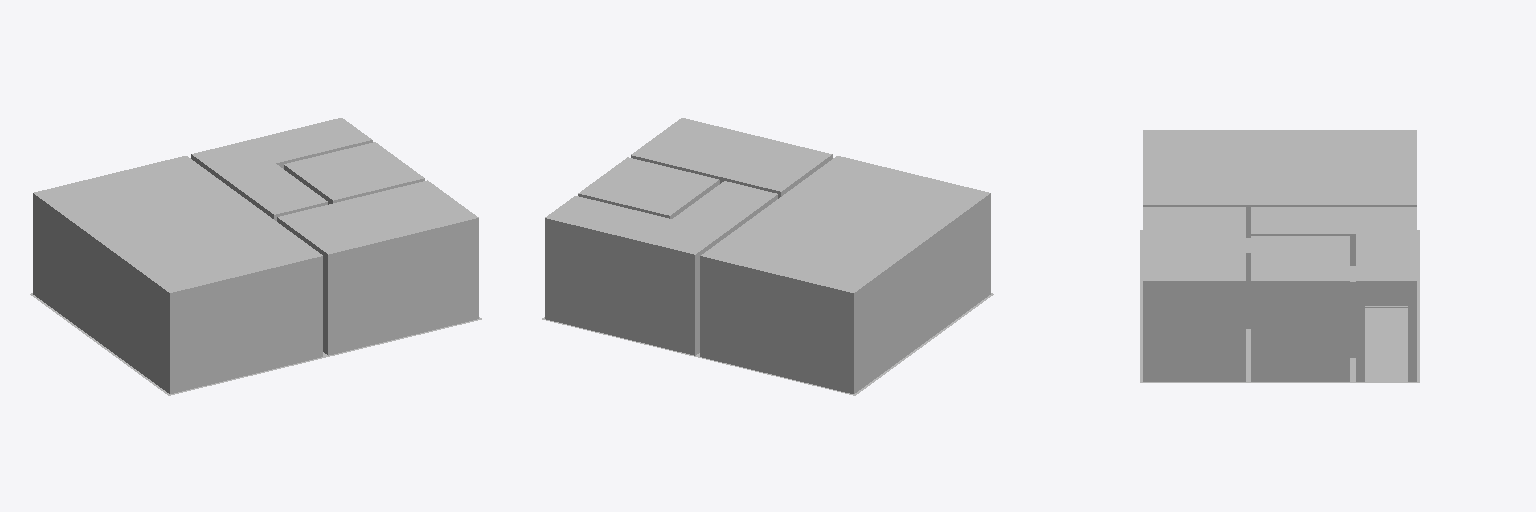
3 views of the same model, side by side, from view 1: azimuth 30°, elevation 25°; view 2: azimuth 150°, elevation 25°; view 3: azimuth 270°, elevation 25° (orthographic).
Visible parts, largest first — view 1: target_fp_2_Plane.008, source_floorplan2_Plane.009; view 2: target_fp_2_Plane.008, source_floorplan2_Plane.009; view 3: target_fp_2_Plane.008, source_floorplan2_Plane.009.
Boxes of the visible parts, box(x1,y1,x2,y2) form: target_fp_2_Plane.008: box(33, 118, 478, 393); source_floorplan2_Plane.009: box(30, 293, 481, 395); target_fp_2_Plane.008: box(545, 118, 990, 393); source_floorplan2_Plane.009: box(542, 293, 993, 395); target_fp_2_Plane.008: box(1143, 130, 1416, 382); source_floorplan2_Plane.009: box(1140, 230, 1419, 382).
Size of the model in its own units: 13 by 4 by 10.